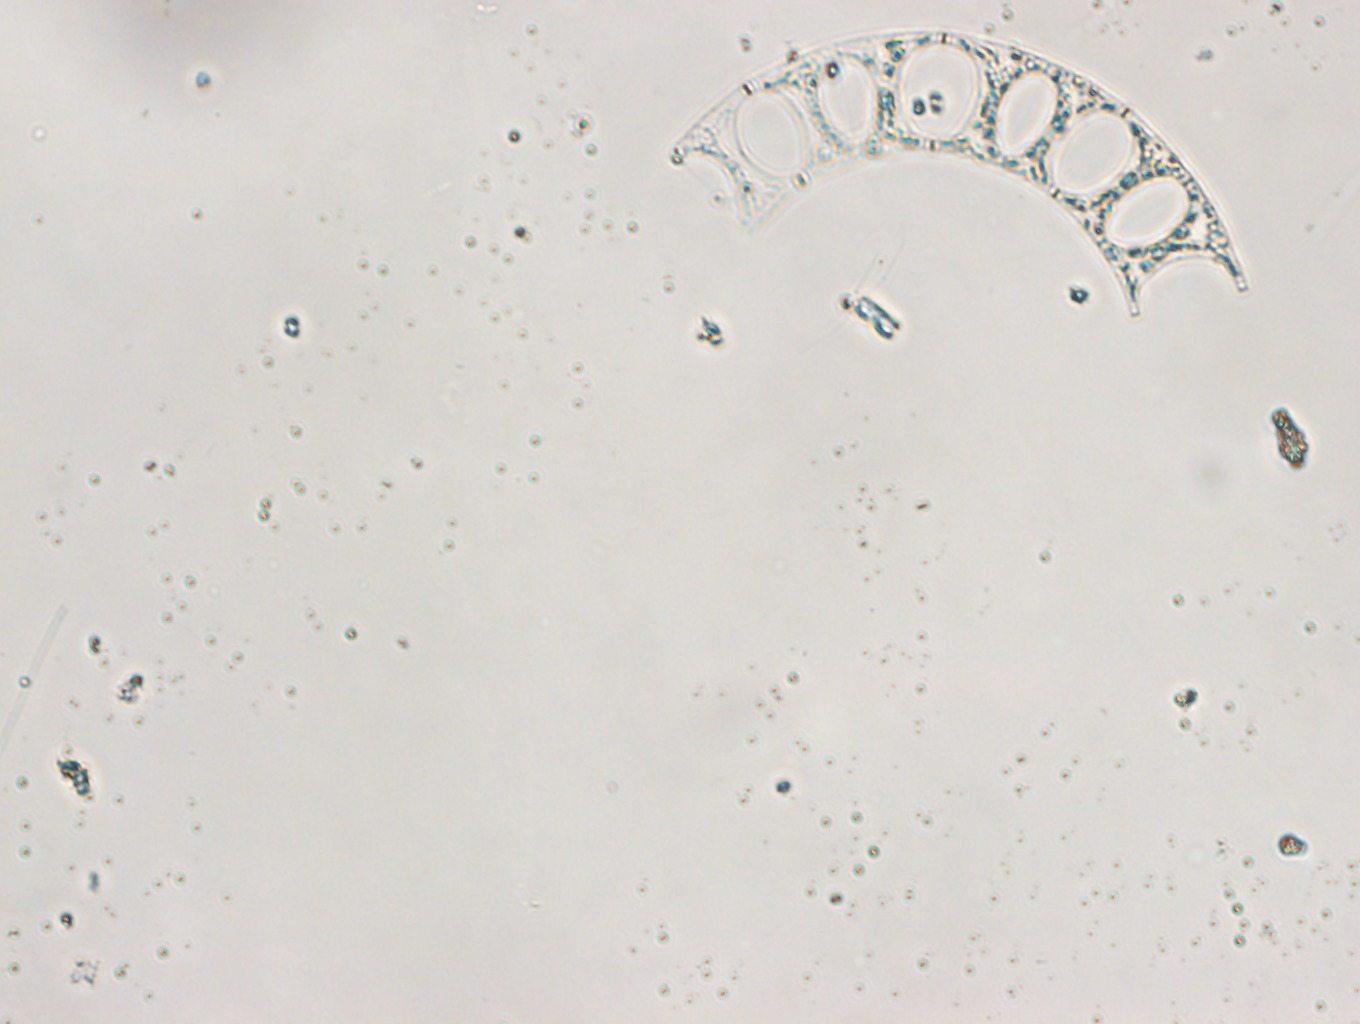eucampia: (669, 27, 1251, 322)
